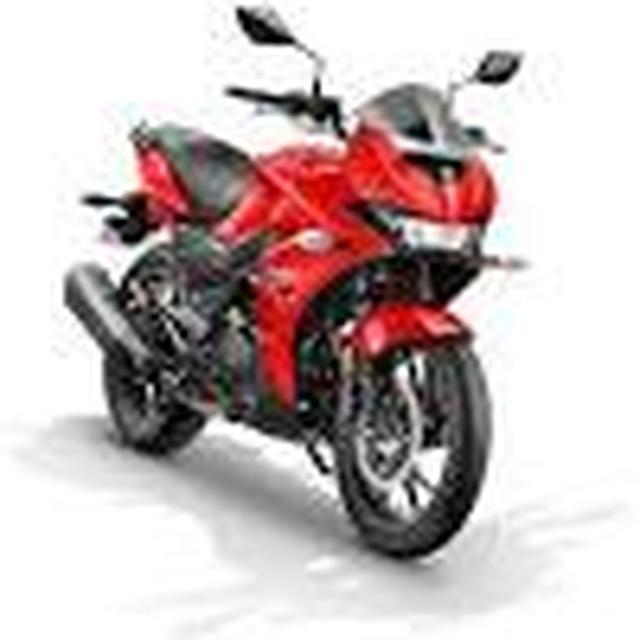motorcycle: (55, 0, 533, 563)
